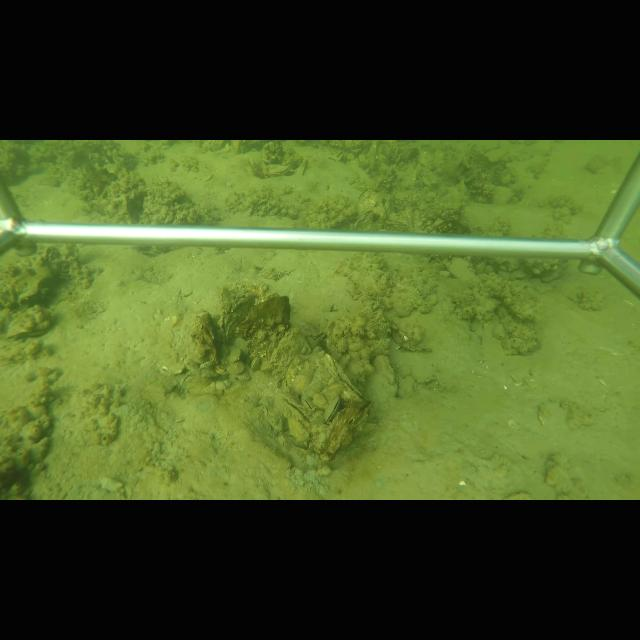Oyster-Closed: (322, 353, 364, 400), (267, 326, 305, 376), (374, 354, 400, 396), (447, 256, 479, 284), (354, 208, 381, 230), (323, 396, 341, 425), (265, 162, 292, 176), (250, 356, 262, 372)
Oyster-Open: (272, 393, 310, 423), (5, 320, 52, 341), (310, 330, 331, 341)
